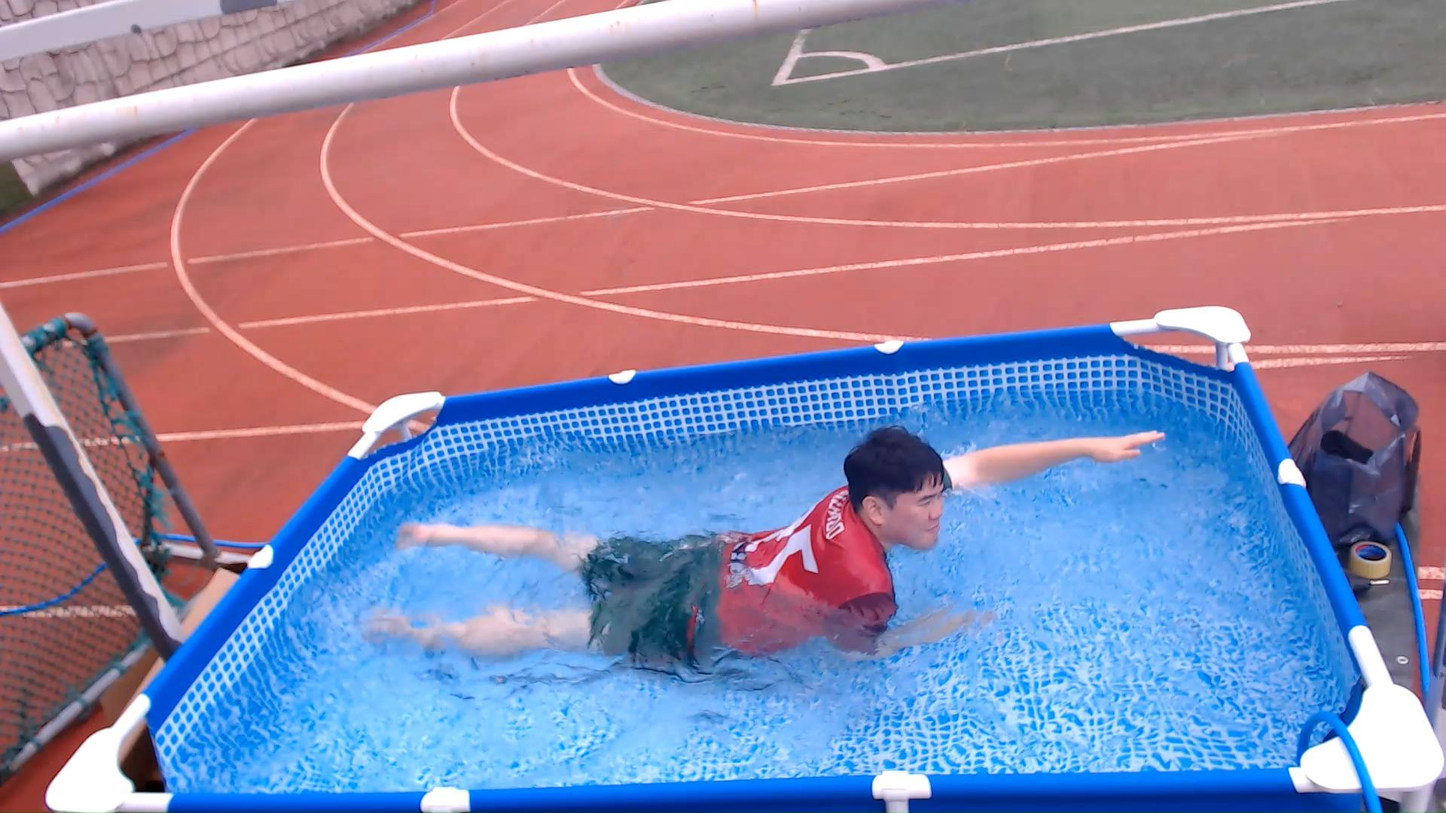Swimming: (344, 354, 1166, 713)
